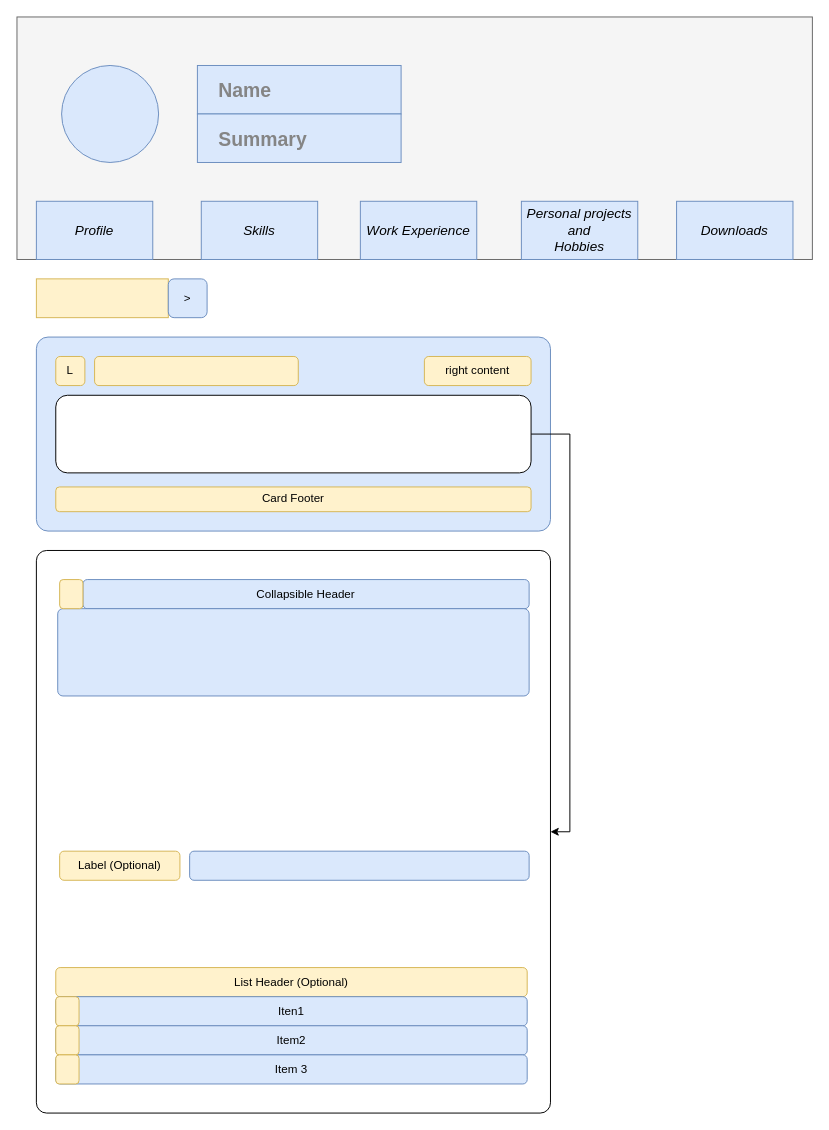
The diagram is 829 pixels wide and 1130 high, and some of its shapes have lost their labels. Each missing label, with the centre of its shape:
"Card" goes at [196,371].
"Card body" goes at [293,433].
"Category" goes at [101,298].
"Collapsible text" goes at [293,652].
"DP" goes at [110,113].
"Text" goes at [359,865].
